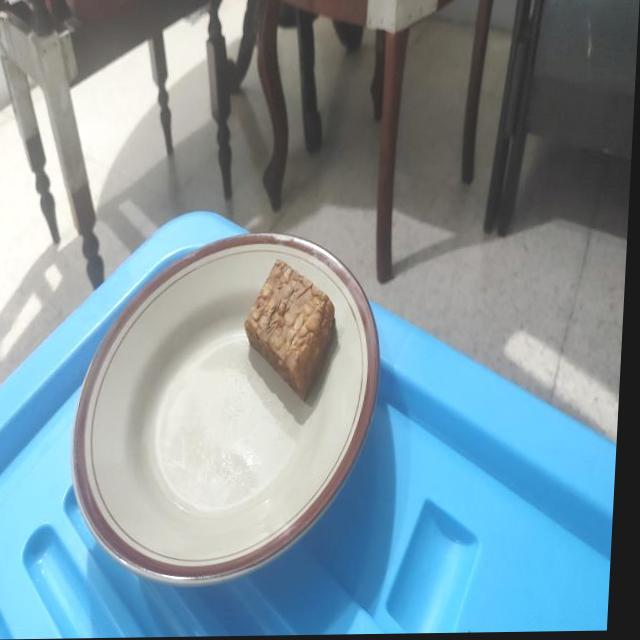tempe_goreng: (245, 260, 335, 400)
